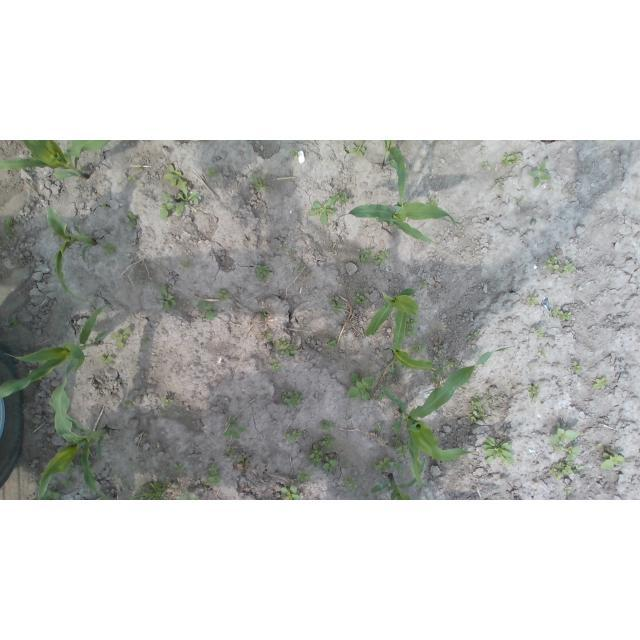Maize: (379, 344, 517, 500), (36, 357, 116, 500), (1, 304, 112, 399), (333, 203, 460, 244), (46, 203, 96, 305), (0, 140, 112, 179), (389, 310, 437, 371), (366, 286, 419, 334), (370, 457, 429, 500), (381, 140, 409, 208)
Weeds: (308, 194, 340, 225), (481, 438, 515, 467), (432, 355, 458, 389), (174, 181, 200, 215), (346, 372, 374, 400), (550, 422, 579, 444), (156, 284, 176, 312), (223, 419, 248, 440), (531, 161, 550, 188), (140, 481, 167, 500), (111, 327, 132, 350), (203, 463, 222, 488), (164, 165, 185, 187), (404, 311, 420, 339), (600, 451, 624, 469), (198, 300, 219, 320), (549, 463, 571, 482), (158, 195, 174, 220), (308, 445, 325, 468), (275, 337, 296, 355), (282, 391, 304, 408), (542, 253, 559, 274), (392, 437, 409, 458), (250, 173, 268, 191), (346, 140, 366, 156), (282, 485, 303, 500), (53, 474, 75, 488), (255, 265, 273, 282), (564, 445, 581, 462), (284, 429, 303, 444), (552, 307, 570, 322), (501, 152, 520, 166), (176, 489, 199, 500), (63, 460, 81, 474), (469, 410, 488, 423), (40, 489, 62, 500), (127, 210, 139, 230), (356, 249, 372, 264), (329, 296, 344, 312), (322, 457, 338, 472), (390, 360, 404, 377), (343, 476, 357, 492), (322, 435, 338, 449), (297, 470, 314, 483), (528, 383, 539, 403), (563, 259, 576, 275), (410, 341, 427, 353), (100, 353, 117, 365), (373, 252, 388, 265), (103, 242, 118, 255), (352, 292, 368, 304), (321, 421, 335, 434), (593, 377, 607, 389), (389, 460, 403, 472), (572, 361, 583, 376), (526, 292, 538, 305), (376, 458, 389, 470), (217, 289, 230, 301), (6, 218, 14, 236), (272, 359, 283, 372), (339, 191, 350, 204), (495, 178, 505, 192), (471, 398, 482, 410), (326, 339, 337, 350), (537, 347, 549, 357), (174, 462, 185, 472), (161, 395, 172, 405), (553, 443, 564, 453), (466, 332, 478, 341), (292, 263, 304, 272), (262, 332, 275, 340), (427, 198, 438, 207), (379, 388, 386, 401), (227, 446, 234, 459), (533, 330, 543, 339), (291, 150, 301, 159), (207, 168, 218, 176), (128, 174, 137, 183), (28, 152, 38, 160), (573, 465, 583, 473), (238, 455, 249, 462), (124, 398, 133, 406), (564, 486, 572, 495), (125, 496, 142, 500), (180, 261, 191, 267), (11, 317, 19, 325), (143, 336, 150, 345), (368, 461, 377, 468), (33, 469, 40, 477), (481, 161, 489, 168), (595, 443, 603, 450), (420, 281, 428, 288), (375, 424, 382, 431), (242, 238, 248, 246), (79, 164, 87, 170), (262, 312, 268, 320), (429, 141, 436, 147), (514, 198, 522, 203), (102, 202, 108, 208), (386, 486, 391, 491), (138, 165, 143, 170), (77, 176, 82, 180), (282, 245, 287, 249), (107, 228, 111, 232), (393, 318, 396, 322)
